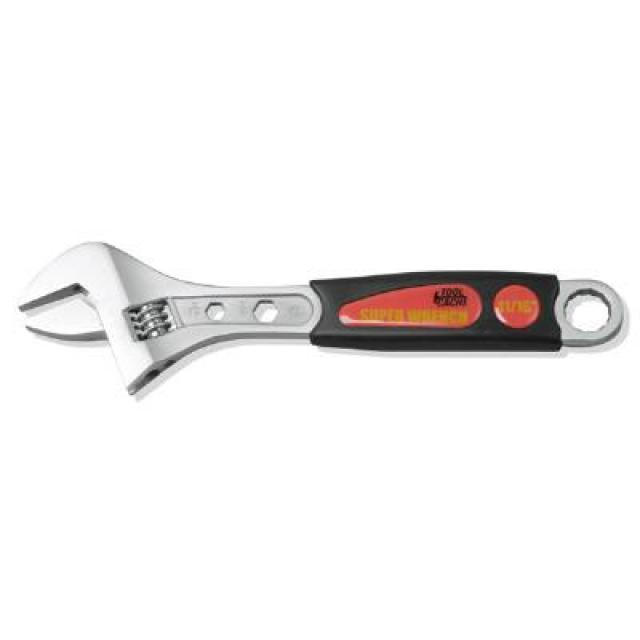wrench: (11, 230, 612, 396)
